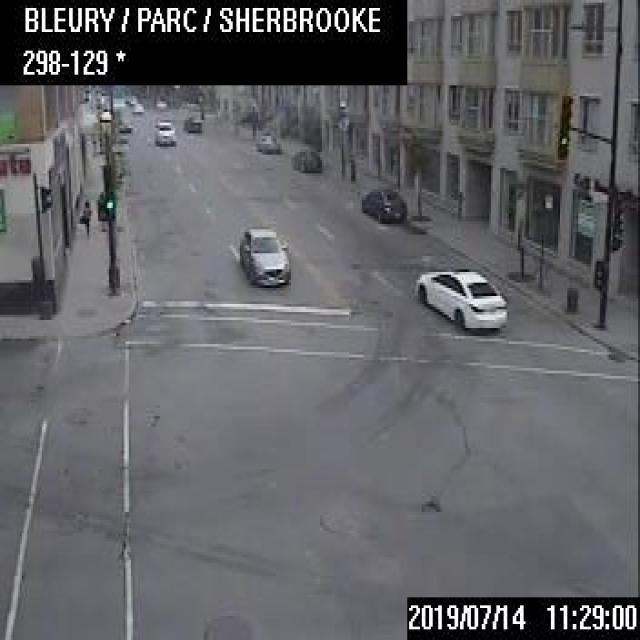pedestrian: (80, 197, 90, 234)
vehicle: (414, 267, 507, 328), (238, 227, 291, 285), (358, 184, 408, 221), (289, 146, 322, 170), (256, 125, 280, 152), (153, 119, 175, 143), (182, 114, 200, 132), (116, 114, 130, 130), (130, 101, 142, 112)
